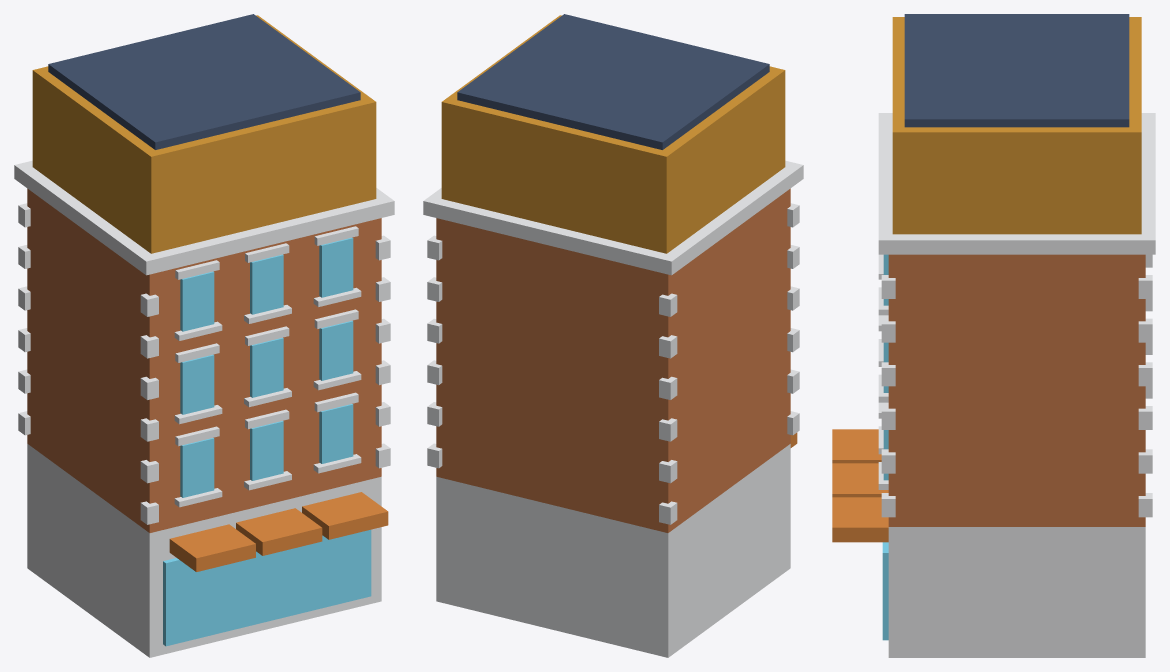
Rendered from city_building_02.glb.
3 renders of one model, left to right at view 1: azimuth 30°, elevation 25°; view 2: azimuth 150°, elevation 25°; view 3: azimuth 270°, elevation 25°, orthographic. The views are drawn at different scales.
Visible parts, largest first — view 1: B02_BrickFacade, B02_RoofDeck, B02_RoofPergola, B02_GroundStore, B02_GlassFront, B02_RoofCornice, B02_Awning_-2.0, B02_Awning_0.0, B02_Awning_2.0, B02_WinGlass_2_-2.1, B02_WinGlass_1_-2.1, B02_WinGlass_1_2.1 (+6 smaller); view 2: B02_BrickFacade, B02_GroundStore, B02_RoofDeck, B02_RoofPergola, B02_RoofCornice; view 3: B02_BrickFacade, B02_GroundStore, B02_RoofDeck, B02_RoofPergola, B02_RoofCornice, B02_Awning_2.0, B02_Awning_0.0, B02_Awning_-2.0, B02_GlassFront.
Part boxes in pixels (x1,y1,x2,y2): B02_BrickFacade: (27,188,381,532); B02_RoofDeck: (32,15,376,253); B02_RoofPergola: (48,14,360,149); B02_GroundStore: (27,444,381,657); B02_GlassFront: (163,529,371,646); B02_RoofCornice: (14,160,394,275); B02_Awning_-2.0: (169,524,255,571); B02_Awning_0.0: (236,508,322,555); B02_Awning_2.0: (302,492,388,539); B02_WinGlass_2_-2.1: (180,271,214,331); B02_WinGlass_1_-2.1: (180,354,214,414); B02_WinGlass_1_2.1: (319,320,353,380); B02_BrickFacade: (436,188,790,532); B02_GroundStore: (436,444,790,657); B02_RoofDeck: (441,15,785,253); B02_RoofPergola: (457,14,769,149); B02_RoofCornice: (423,160,803,275); B02_BrickFacade: (888,254,1145,526); B02_GroundStore: (888,527,1145,657); B02_RoofDeck: (892,17,1141,234); B02_RoofPergola: (904,14,1129,127); B02_RoofCornice: (878,113,1155,254); B02_Awning_2.0: (832,497,888,542); B02_Awning_0.0: (832,463,888,497); B02_Awning_-2.0: (832,429,881,463); B02_GlassFront: (882,542,888,640).
Size of the model in its own units: 7.5 by 14.62 by 8.05.
